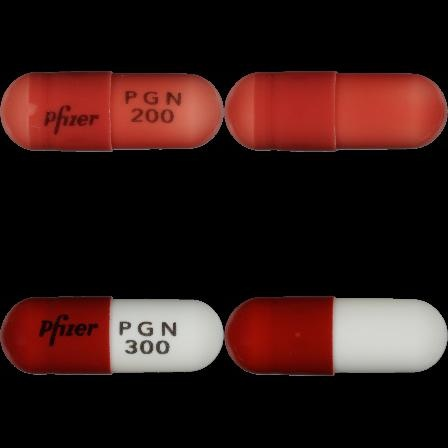21695-663: (0, 0, 224, 224)
